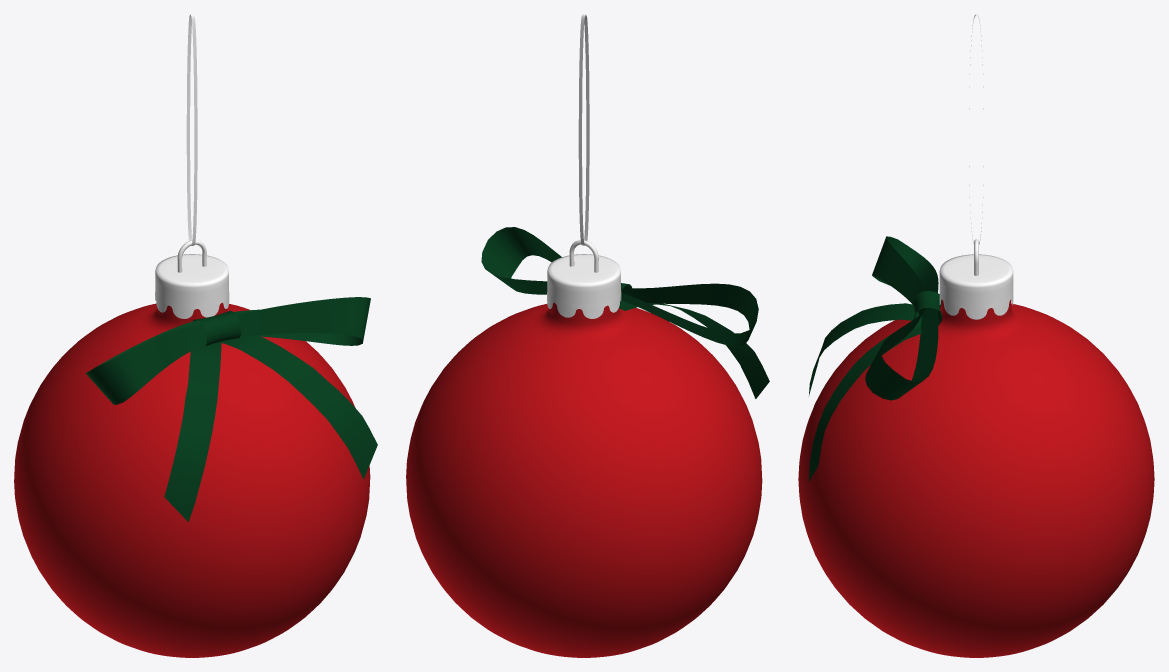
Rendered from christmas balls.fbx.
3 renders of one model, left to right at view 1: azimuth 30°, elevation 25°; view 2: azimuth 150°, elevation 25°; view 3: azimuth 270°, elevation 25°, orthographic.
Parts seen in each view (by area): view 1: 1; view 2: 1; view 3: 1.
Boxes of the visible parts, box(x1,y1,x2,y2) form: 1: box(14, 14, 377, 657); 1: box(406, 14, 769, 657); 1: box(798, 14, 1154, 657).
Size of the model in its own units: 158 by 308 by 158.
